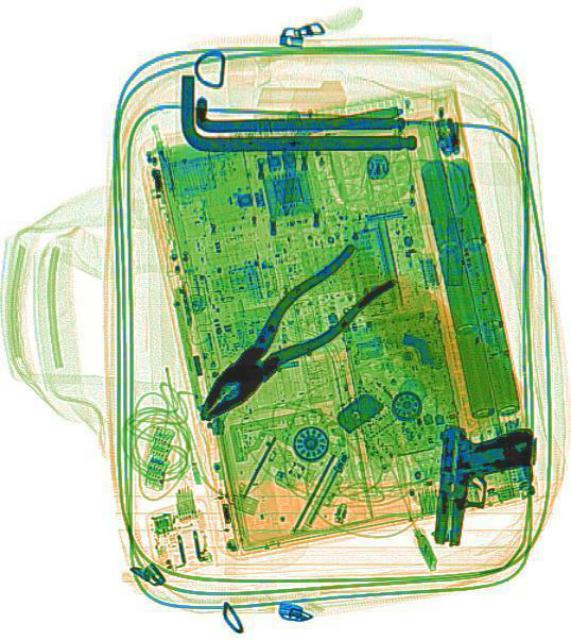Gun: (429, 420, 537, 552)
Pliers: (173, 230, 396, 442)
